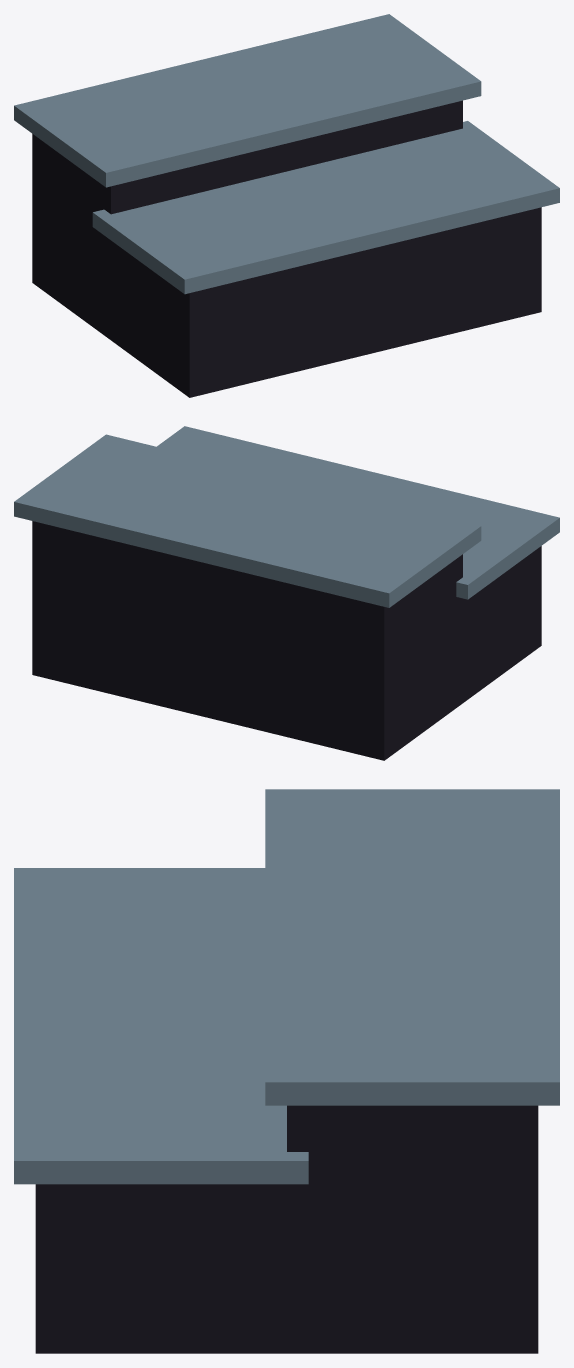
Rendered from Diving Board Steps.fbx.
3 views of the same model, one above another, from view 1: azimuth 30°, elevation 25°; view 2: azimuth 150°, elevation 25°; view 3: azimuth 270°, elevation 25° (orthographic). The views are drawn at different scales.
Visible parts, largest first — view 1: Diving Board Steps; view 2: Diving Board Steps; view 3: Diving Board Steps.
Boxes of the visible parts, x1=… form: Diving Board Steps: x1=14, y1=14, x2=559, y2=397; Diving Board Steps: x1=14, y1=426, x2=559, y2=760; Diving Board Steps: x1=14, y1=789, x2=559, y2=1353.
Bounding box in the file's own units: 1.07 × 0.4776 × 0.8434.
